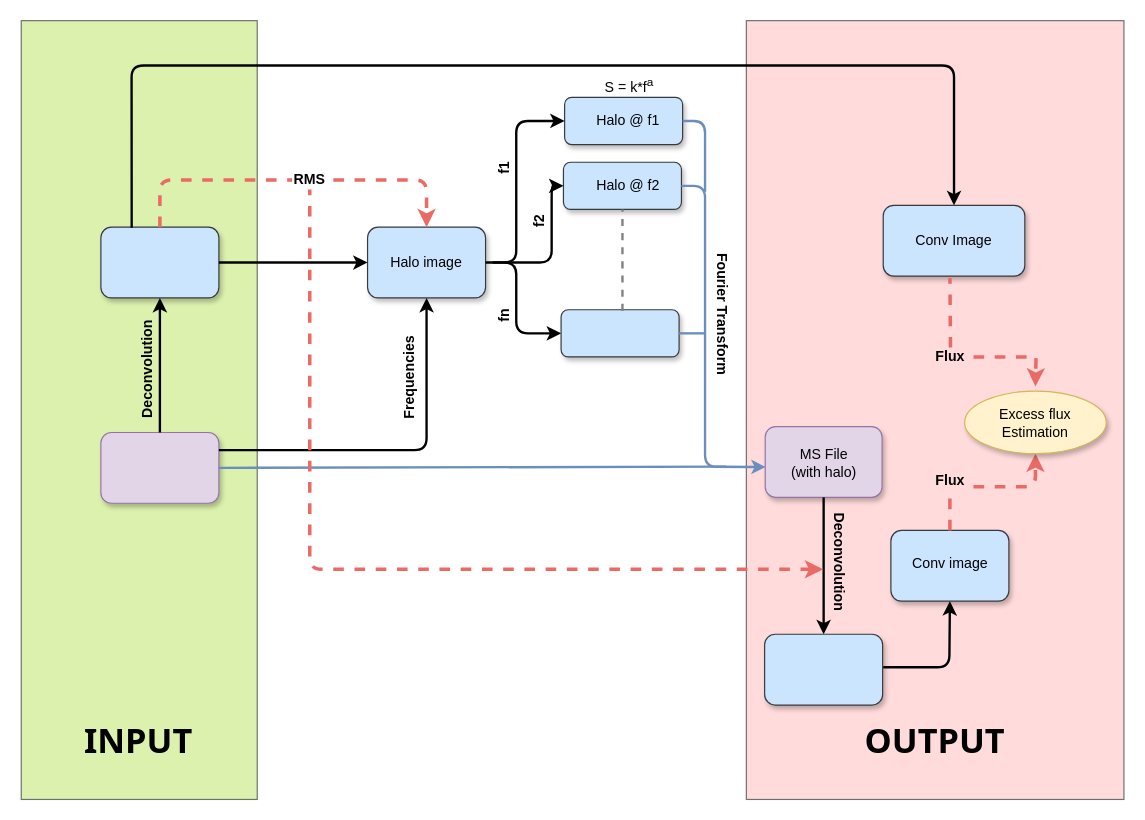
Some shapes in this 1145 by 820 pixel diagram are drawn without their labels. The centre of each missing label's shape, as x and y in pixels:
"Halo @ fn" goes at [620,334].
"Input Image" goes at [160,263].
"Input Image (with halo)" goes at [824,670].
"MS File" goes at [160,469].
